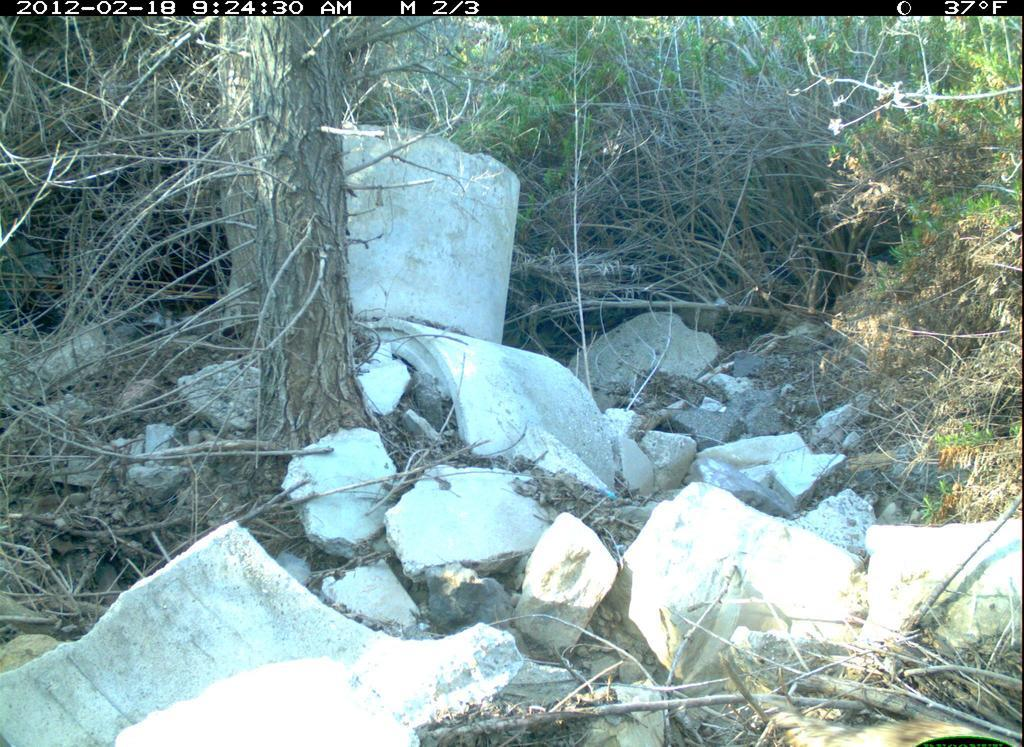coyote: (755, 691, 1006, 747)
